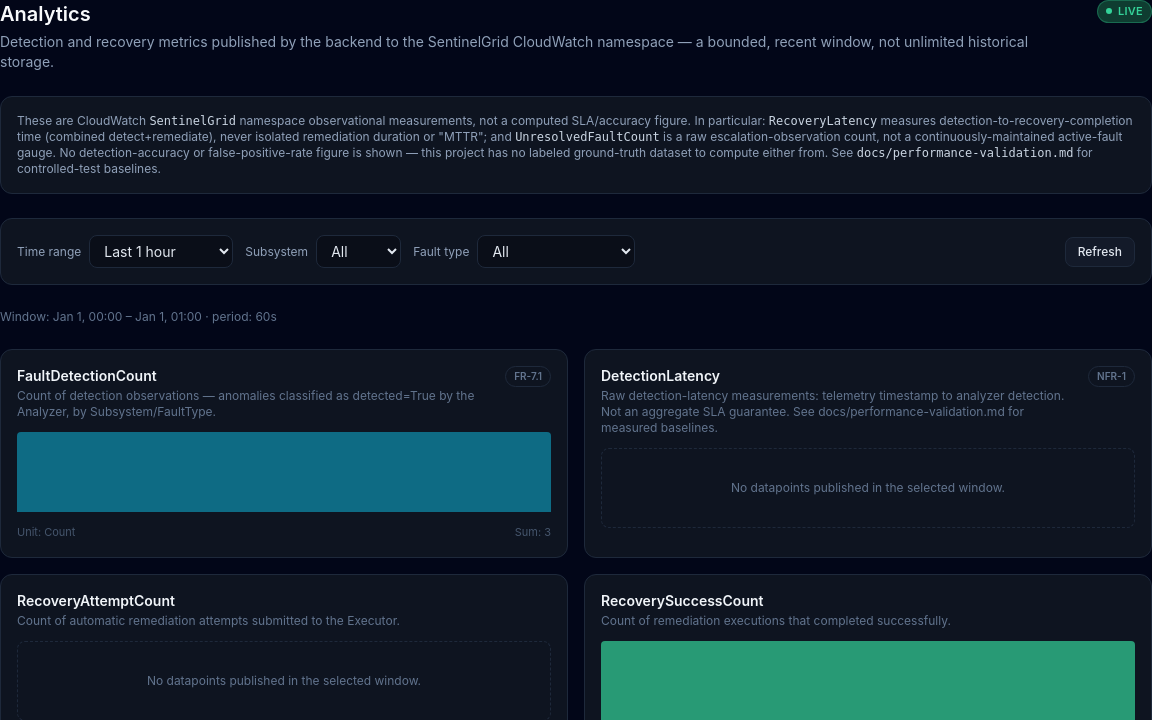
Test: AnalyticsPage (Step 43 — live data) › the Refresh button re-issues the request
Check: the text "FaultDetectionCount" is shown, box [17,367,157,384]
Click the button "Refresh": (1100, 252) [1065,236,1135,266]
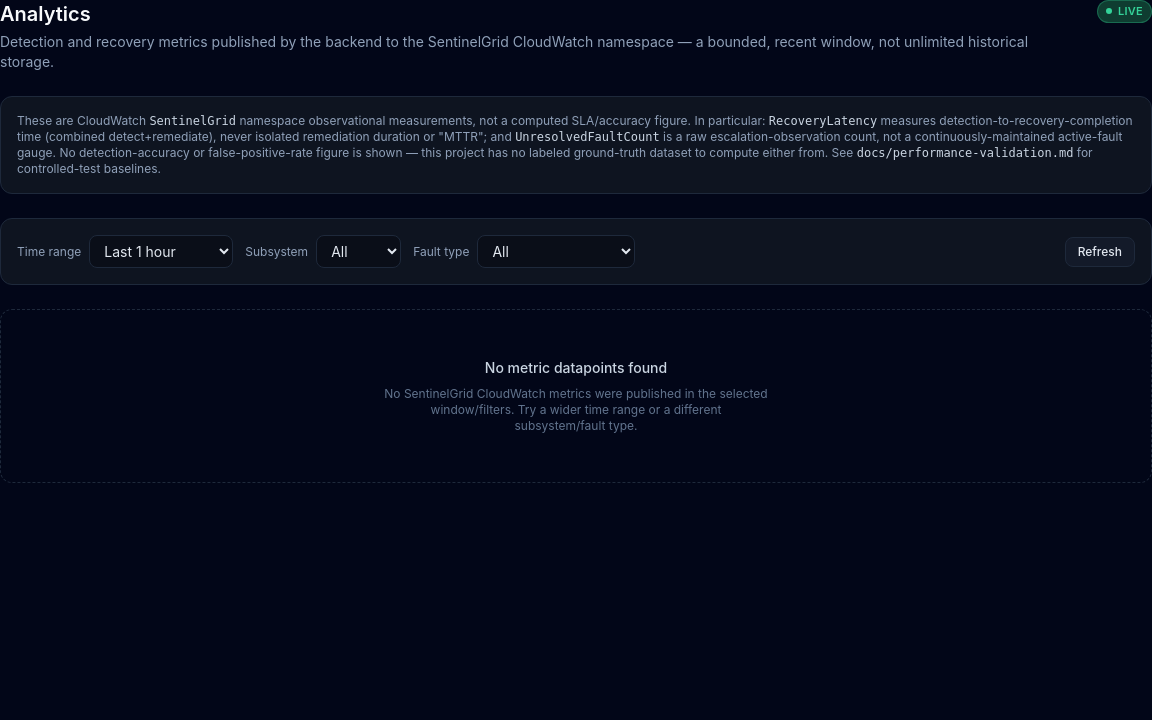
Check: the text "No metric datapoints found" is shown, box [485,358,667,378]
